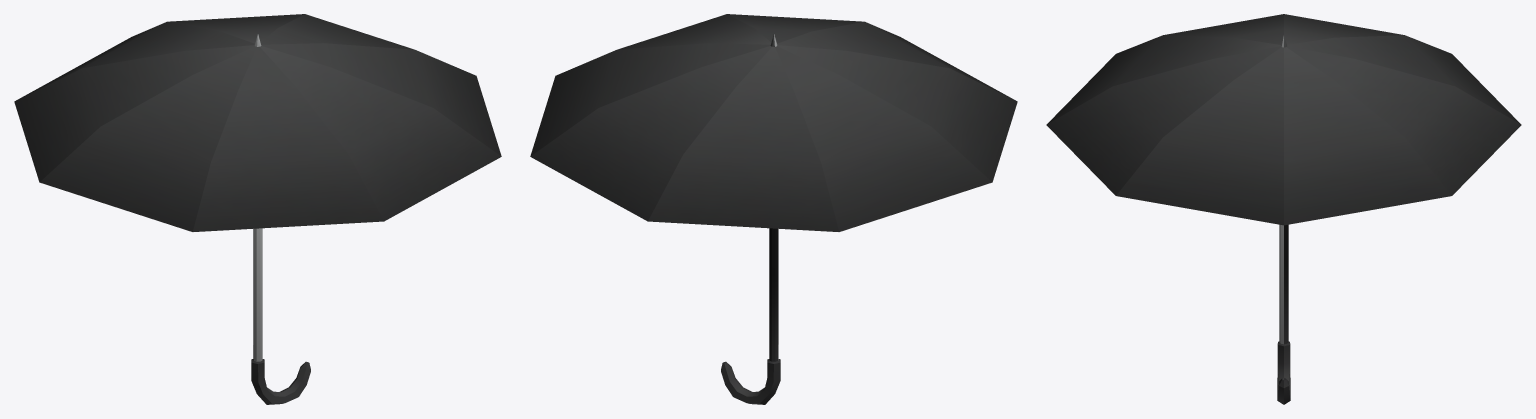
The model's file is Umbrella_Open.fbx.
3 renders of one model, left to right at view 1: azimuth 30°, elevation 25°; view 2: azimuth 150°, elevation 25°; view 3: azimuth 270°, elevation 25°, orthographic. The views are drawn at different scales.
Visible parts, largest first — view 1: Umbrella_Open; view 2: Umbrella_Open; view 3: Umbrella_Open.
Boxes of the visible parts, bbox=[...] form: Umbrella_Open: bbox=[14, 14, 501, 404]; Umbrella_Open: bbox=[530, 14, 1017, 404]; Umbrella_Open: bbox=[1046, 14, 1521, 404].
Size of the model in its own units: 98.18 by 80.83 by 98.18.
